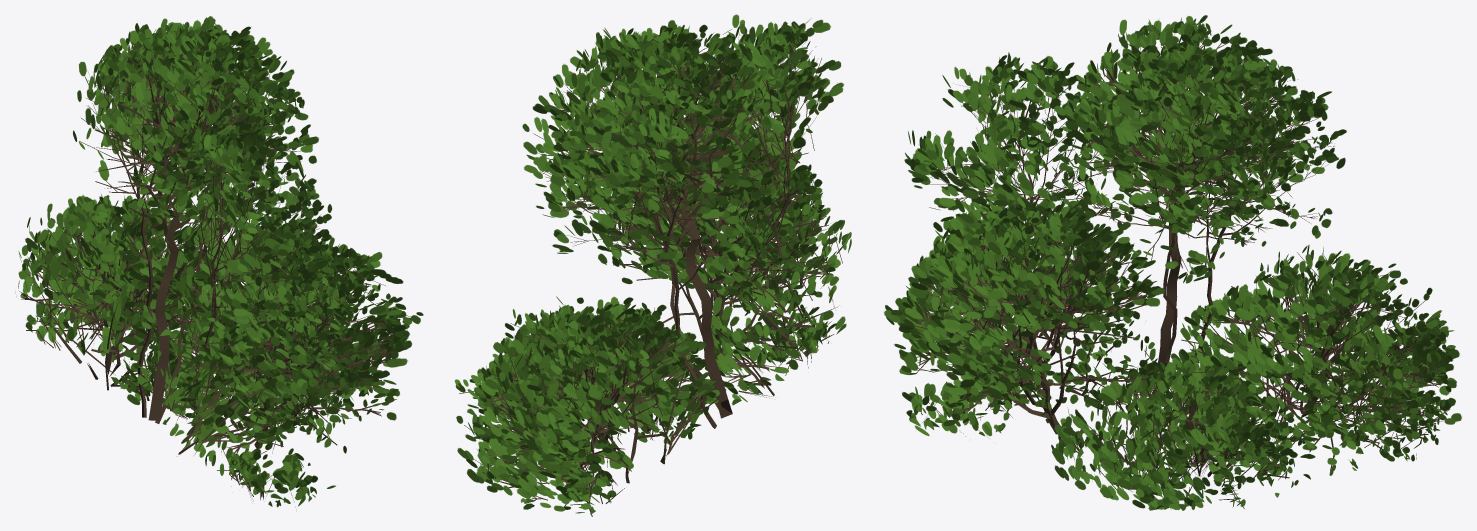
3 views of the same model, side by side, from view 1: azimuth 30°, elevation 25°; view 2: azimuth 150°, elevation 25°; view 3: azimuth 270°, elevation 25° (orthographic). The views are drawn at different scales.
Parts seen in each view (by area): view 1: oak 01.001_trunk_Mat.001_0.369; view 2: oak 01.001_trunk_Mat.001_0.369; view 3: oak 01.001_trunk_Mat.001_0.369.
Boxes of the visible parts, x1,y1,x2,y2 form: oak 01.001_trunk_Mat.001_0.369: (15,16,423,507); oak 01.001_trunk_Mat.001_0.369: (454,14,851,516); oak 01.001_trunk_Mat.001_0.369: (884,15,1461,510).
Bounding box in the file's own units: 2.87 × 4.33 × 5.41.
2 materials, 1 textured.
